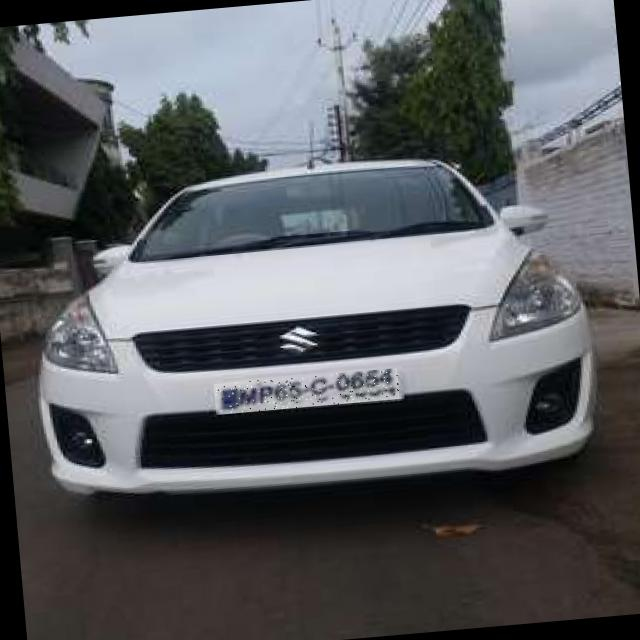Plate: (214, 369, 400, 416)
